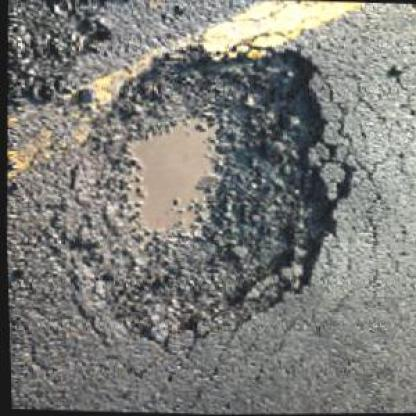pothole: (40, 36, 366, 356)
